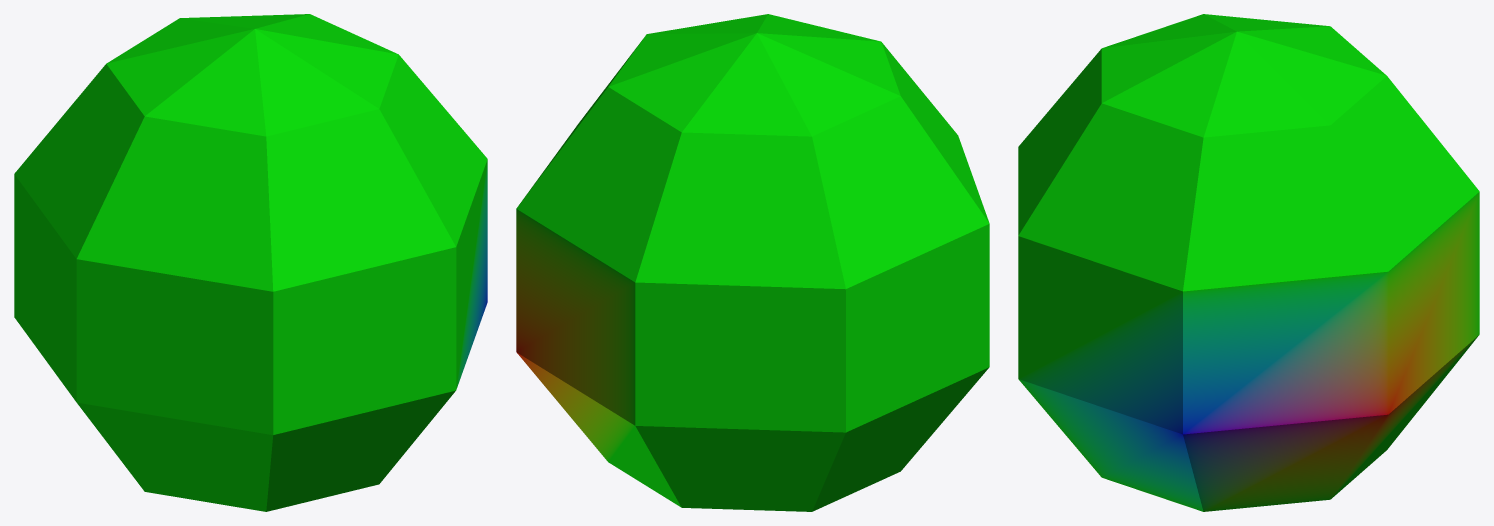
The model's file is before_decimating_conquest_1_1.obj.
3 views of the same model, side by side, from view 1: azimuth 30°, elevation 25°; view 2: azimuth 150°, elevation 25°; view 3: azimuth 270°, elevation 25° (orthographic).
Size of the model in its own units: 1.85 by 2 by 1.81.
